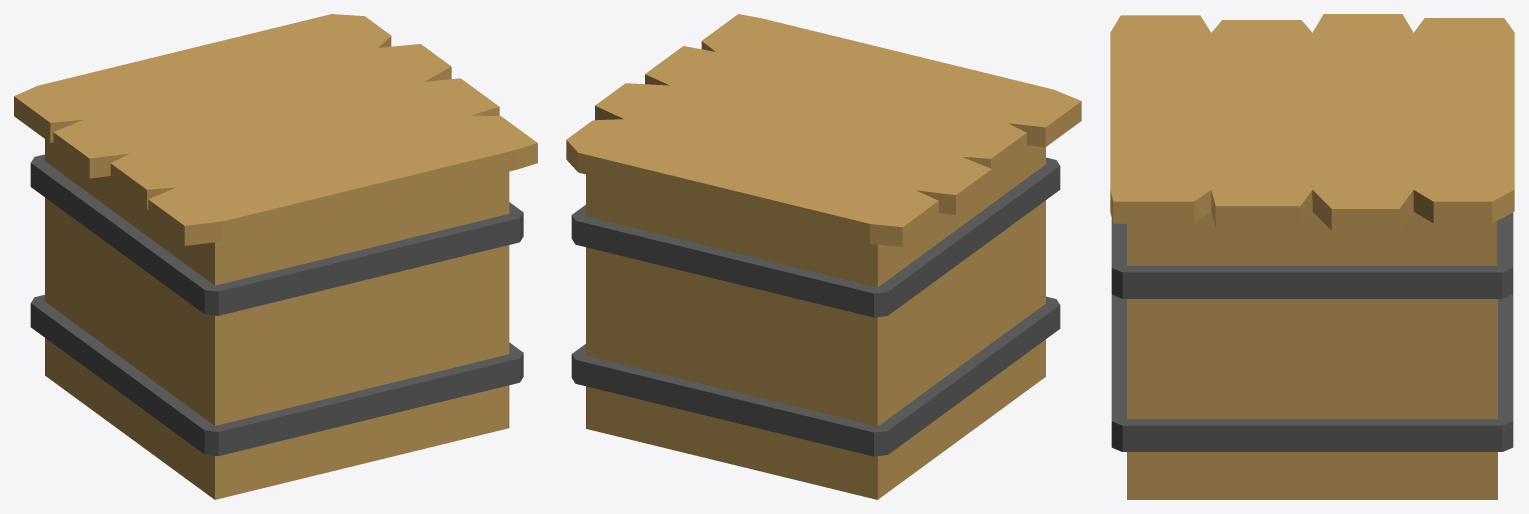
Rendered from Chest.fbx.
3 views of the same model, side by side, from view 1: azimuth 30°, elevation 25°; view 2: azimuth 150°, elevation 25°; view 3: azimuth 270°, elevation 25° (orthographic). The views are drawn at different scales.
Visible parts, largest first — view 1: Cube.020; view 2: Cube.020; view 3: Cube.020.
Boxes of the visible parts, <box> form: Cube.020: <box>14,14,537,499</box>; Cube.020: <box>566,14,1081,499</box>; Cube.020: <box>1110,14,1514,499</box>.
Size of the model in its own units: 63.01 by 46.76 by 55.26.
1 material, 1 textured.
